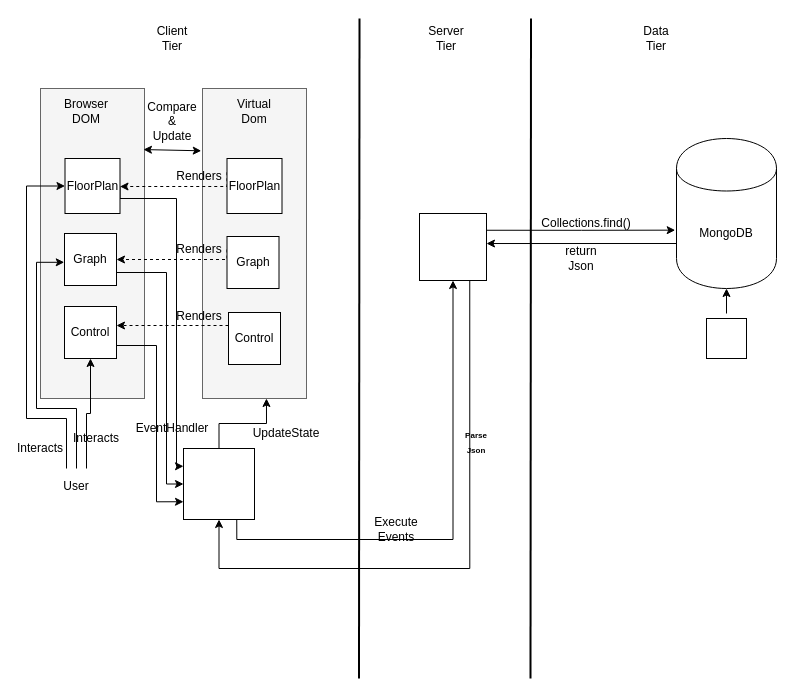
Some shapes in this 794 by 697 pixel diagram are drawn without their labels. The box of each missing label's shape, as (x1, y1, x2, y2) in pixels:
csv to Bson: (706, 318, 746, 358)
Meteor: (418, 212, 486, 280)
ReactJS: (182, 448, 254, 520)
